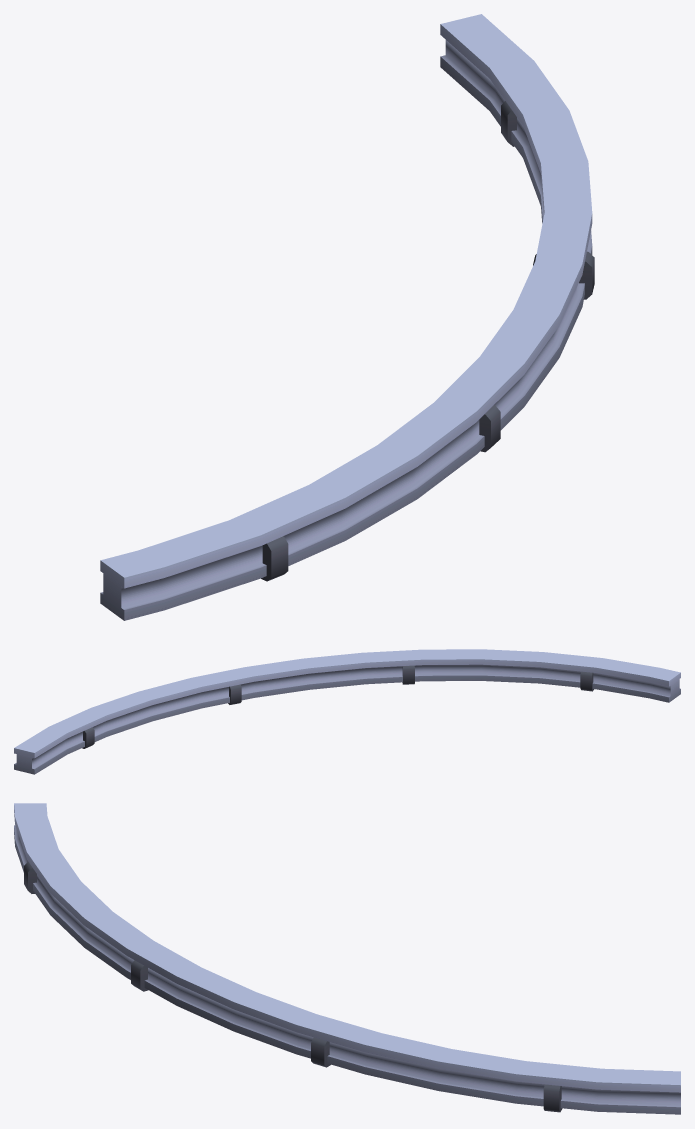
The model's file is coaster-monorail-corner-large.glb.
The picture shows the model from 3 angles, top to bottom: view 1: azimuth 30°, elevation 25°; view 2: azimuth 150°, elevation 25°; view 3: azimuth 270°, elevation 25°; orthographic projection. The views are drawn at different scales.
Parts seen in each view (by area): view 1: coaster-monorail-corner-large; view 2: coaster-monorail-corner-large; view 3: coaster-monorail-corner-large.
Boxes of the visible parts, x1=… form: coaster-monorail-corner-large: x1=100, y1=14, x2=594, y2=620; coaster-monorail-corner-large: x1=14, y1=649, x2=680, y2=774; coaster-monorail-corner-large: x1=14, y1=803, x2=680, y2=1114.
Size of the model in its own units: 4.1 by 0.2252 by 4.1.
1 material, 1 textured.
